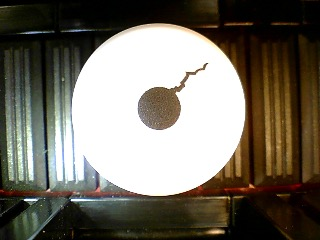CRACK: (71, 23, 246, 196)
